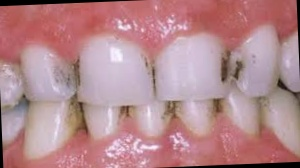Tooth Discoloration: (45, 56, 85, 98), (136, 46, 163, 92), (63, 95, 89, 139), (219, 50, 246, 86), (156, 100, 182, 127), (210, 89, 225, 124), (113, 104, 137, 124)
